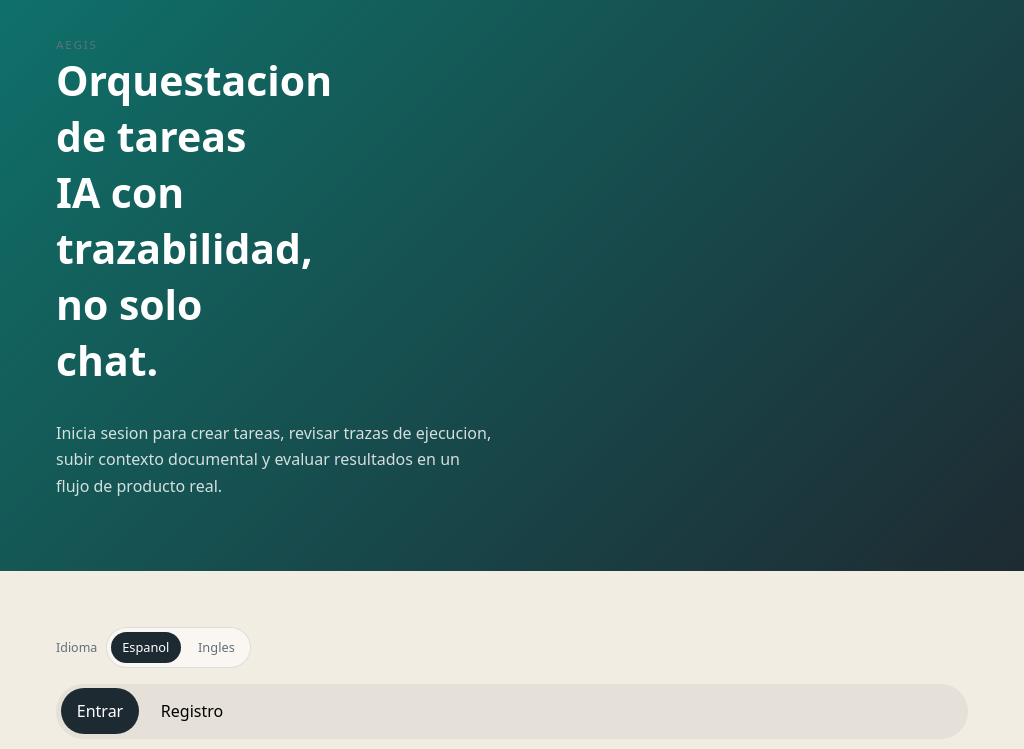
Test: AuthPage › renders login and register form controls
This screenshot has width=1024, height=749.
Check: the button "Entrar" is shown, box [61,688,139,734]
Click the button "Registro" at (192, 711), box [145,688,239,734]
(page scrolled)
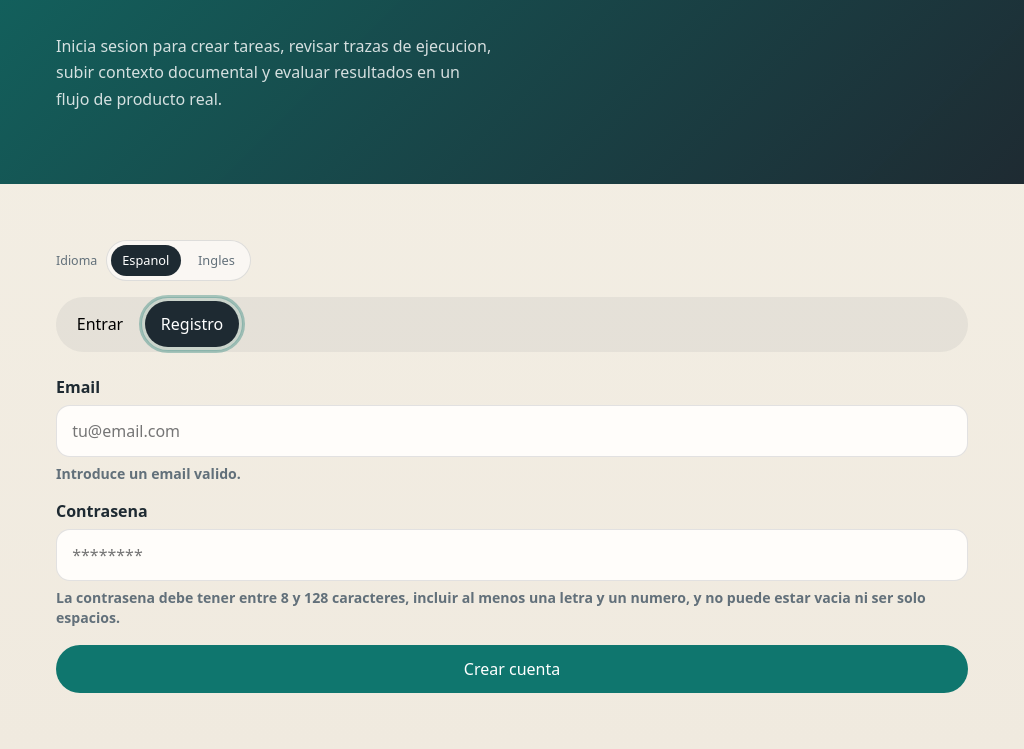
Check: the button "Crear cuenta" is shown, box [56,645,968,693]
